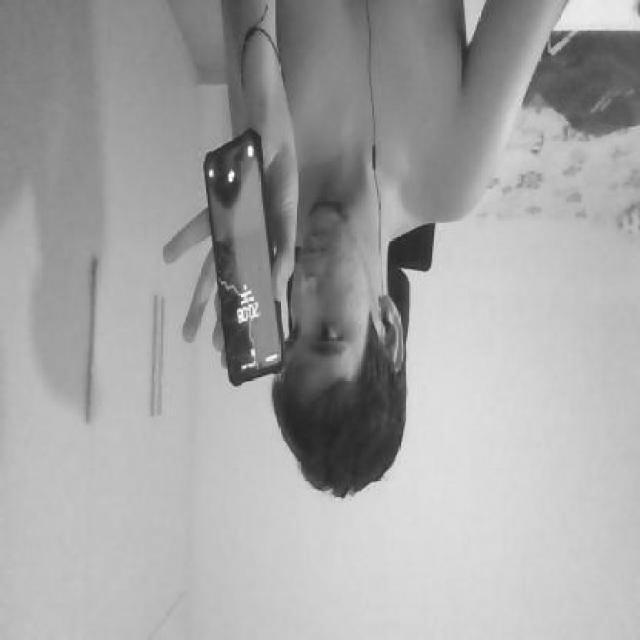fake: (202, 124, 286, 388)
